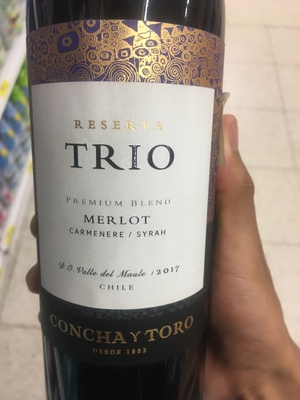trio merlot: (24, 4, 226, 400)
